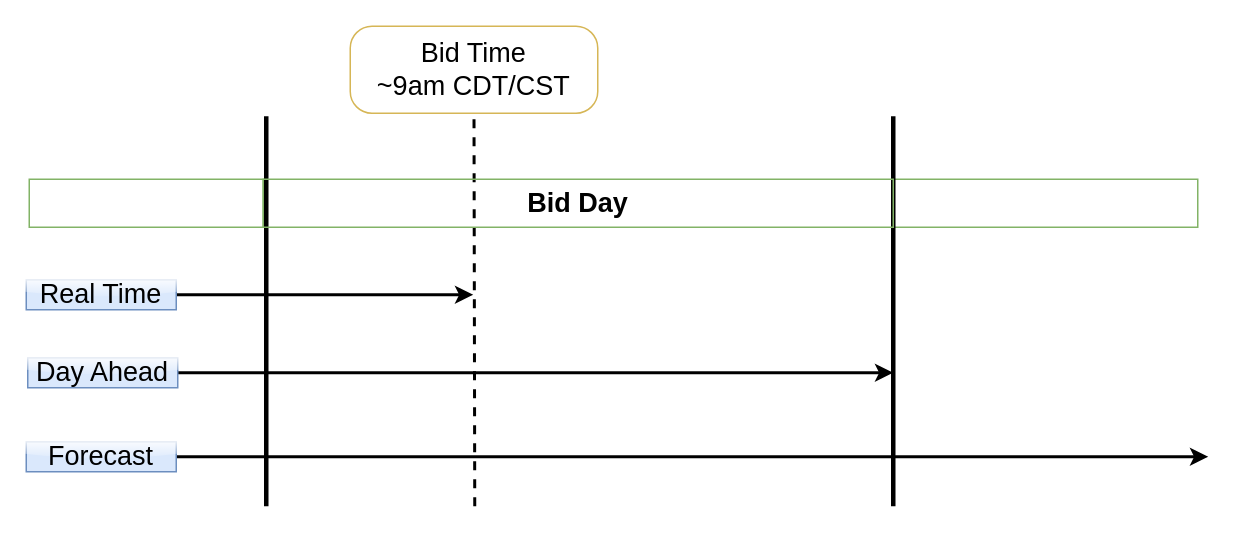
Some shapes in this 1248 by 536 pixel diagram are drawn without their labels. Here are the shapes that lost their labels. From the top down, the centre of each, then its label:
At (x=145, y=202): "Yesterday".
At (x=1045, y=202): "Target Day".
